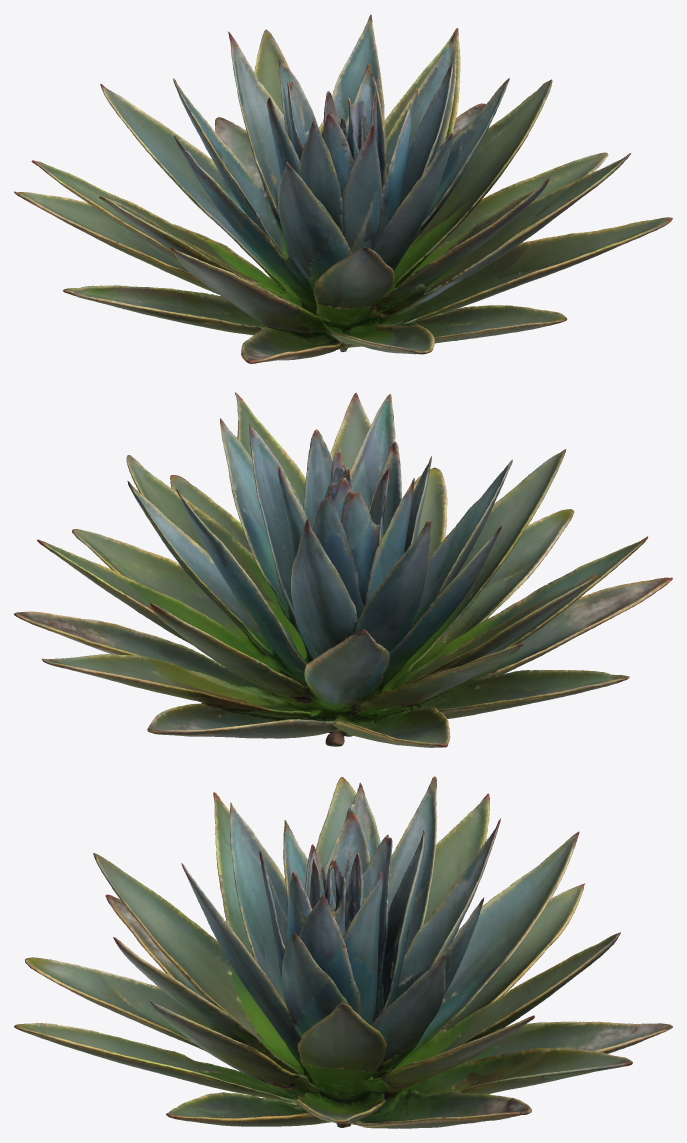
Rendered from agave_plant_0502171941.glb.
3 renders of one model, top to bottom at view 1: azimuth 30°, elevation 25°; view 2: azimuth 150°, elevation 25°; view 3: azimuth 270°, elevation 25°, orthographic. The views are drawn at different scales.
Bounding box in the file's own units: 2 × 0.9668 × 2.
1 material, 1 textured.
